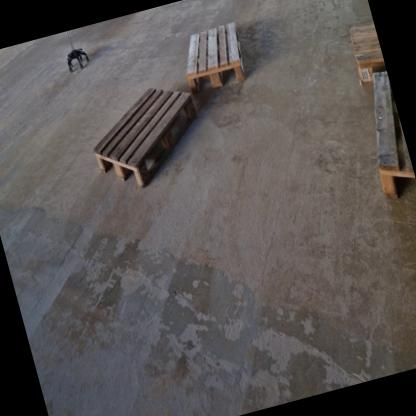BoxFace: (90, 80, 199, 195), (182, 11, 249, 100), (374, 68, 416, 203), (346, 13, 386, 86)
